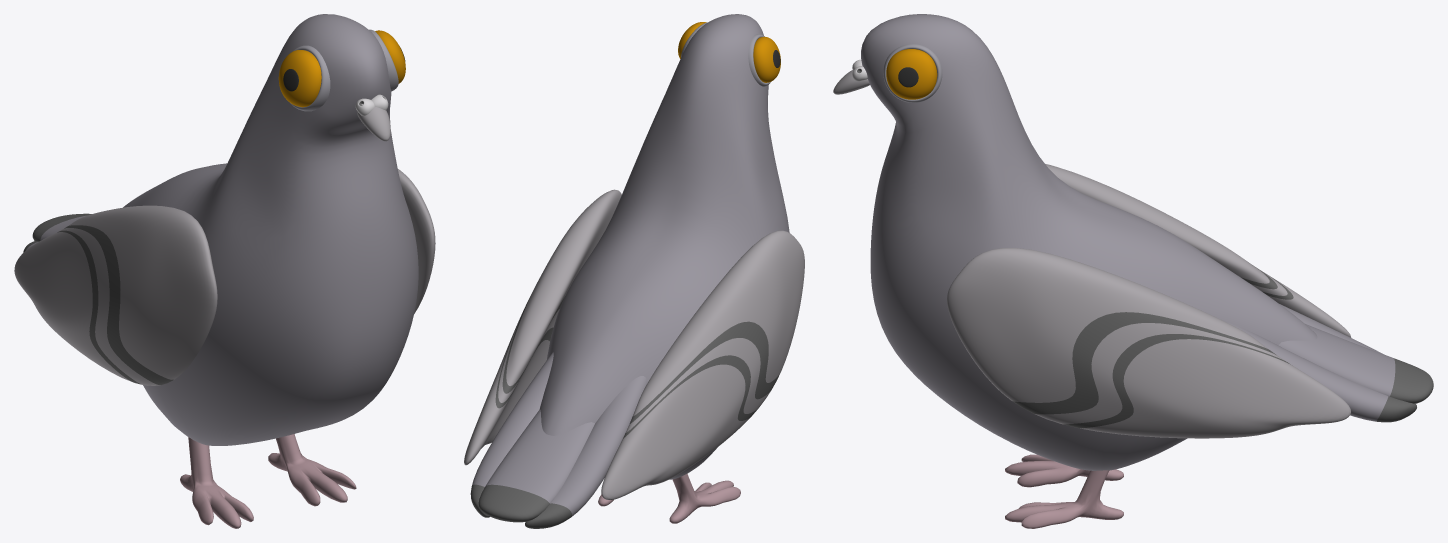
File: WalkingAngryPigeon.glb
3 renders of one model, left to right at view 1: azimuth 30°, elevation 25°; view 2: azimuth 150°, elevation 25°; view 3: azimuth 270°, elevation 25°, orthographic. The views are drawn at different scales.
Visible parts, largest first — view 1: polySurface71, polySurface74, polySurface69, polySurface70, polySurface73, polySurface76, polySurface68, polySurface72, polySurface56, polySurface75; view 2: polySurface71, polySurface74, polySurface72, polySurface73, polySurface69, polySurface76; view 3: polySurface71, polySurface73, polySurface72, polySurface74, polySurface70, polySurface69, polySurface75, polySurface67.
Boxes of the visible parts, x1=… form: polySurface71: x1=123, y1=14, x2=418, y2=445; polySurface74: x1=14, y1=205, x2=217, y2=385; polySurface69: x1=180, y1=437, x2=253, y2=528; polySurface70: x1=268, y1=434, x2=356, y2=506; polySurface73: x1=398, y1=169, x2=435, y2=313; polySurface76: x1=278, y1=50, x2=321, y2=107; polySurface68: x1=290, y1=45, x2=330, y2=111; polySurface72: x1=23, y1=213, x2=91, y2=252; polySurface56: x1=357, y1=106, x2=390, y2=141; polySurface75: x1=375, y1=30, x2=405, y2=83; polySurface71: x1=540, y1=14, x2=789, y2=479; polySurface74: x1=601, y1=230, x2=804, y2=499; polySurface72: x1=470, y1=352, x2=647, y2=528; polySurface73: x1=464, y1=189, x2=621, y2=465; polySurface69: x1=669, y1=473, x2=740, y2=523; polySurface76: x1=753, y1=36, x2=780, y2=82; polySurface71: x1=861, y1=14, x2=1317, y2=470; polySurface73: x1=947, y1=248, x2=1351, y2=438; polySurface72: x1=1227, y1=304, x2=1433, y2=422; polySurface74: x1=1045, y1=164, x2=1351, y2=337; polySurface70: x1=1005, y1=470, x2=1123, y2=528; polySurface69: x1=1005, y1=454, x2=1123, y2=487; polySurface75: x1=886, y1=49, x2=937, y2=99; polySurface67: x1=883, y1=44, x2=942, y2=102.
Size of the model in its own units: 0.0451 by 0.0844 by 0.0951.
